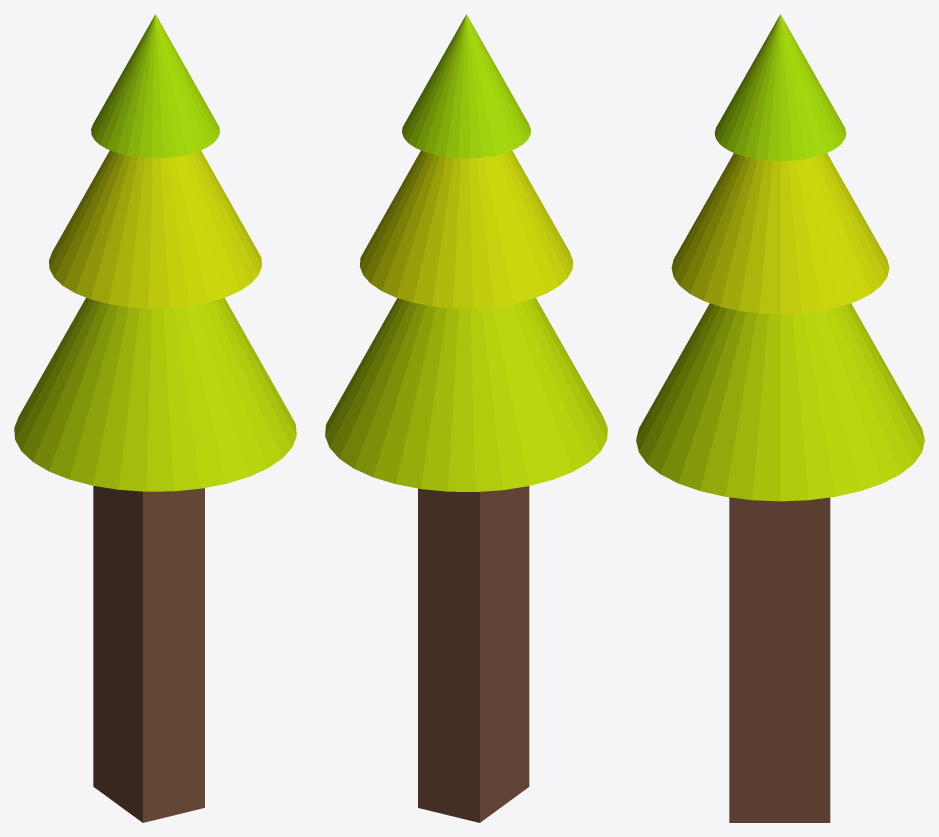
Rendered from low_poly_tree.glb.
The picture shows the model from 3 angles, left to right: view 1: azimuth 30°, elevation 25°; view 2: azimuth 150°, elevation 25°; view 3: azimuth 270°, elevation 25°; orthographic projection.
Parts seen in each view (by area): view 1: Cone.012; view 2: Cone.012; view 3: Cone.012.
Boxes of the visible parts, left/top/right/bottom form: Cone.012: left=14, top=14, right=296, bottom=822; Cone.012: left=325, top=14, right=607, bottom=822; Cone.012: left=636, top=14, right=924, bottom=822.
Bounding box in the file's own units: 1453 × 4422 × 1453.
